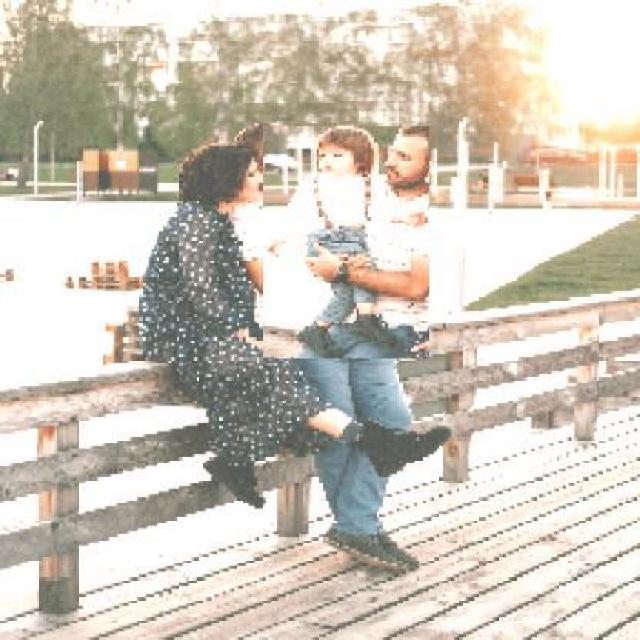child: (262, 126, 429, 360)
